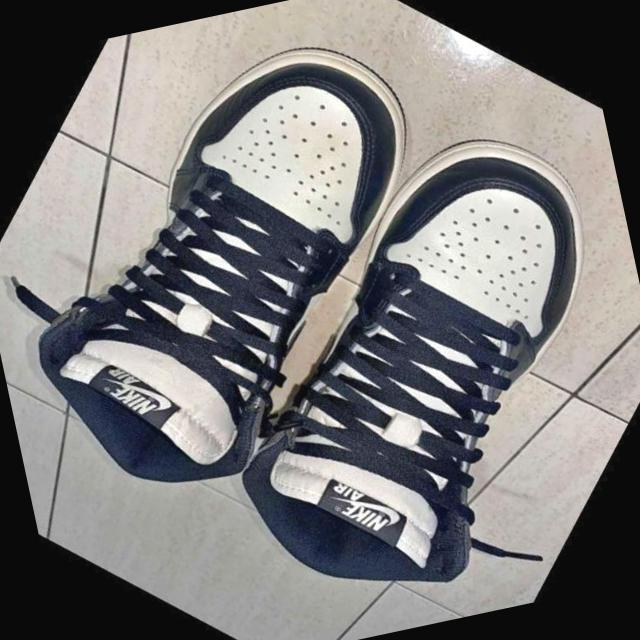nike_original_jordan: (0, 0, 521, 560), (133, 65, 640, 640)
